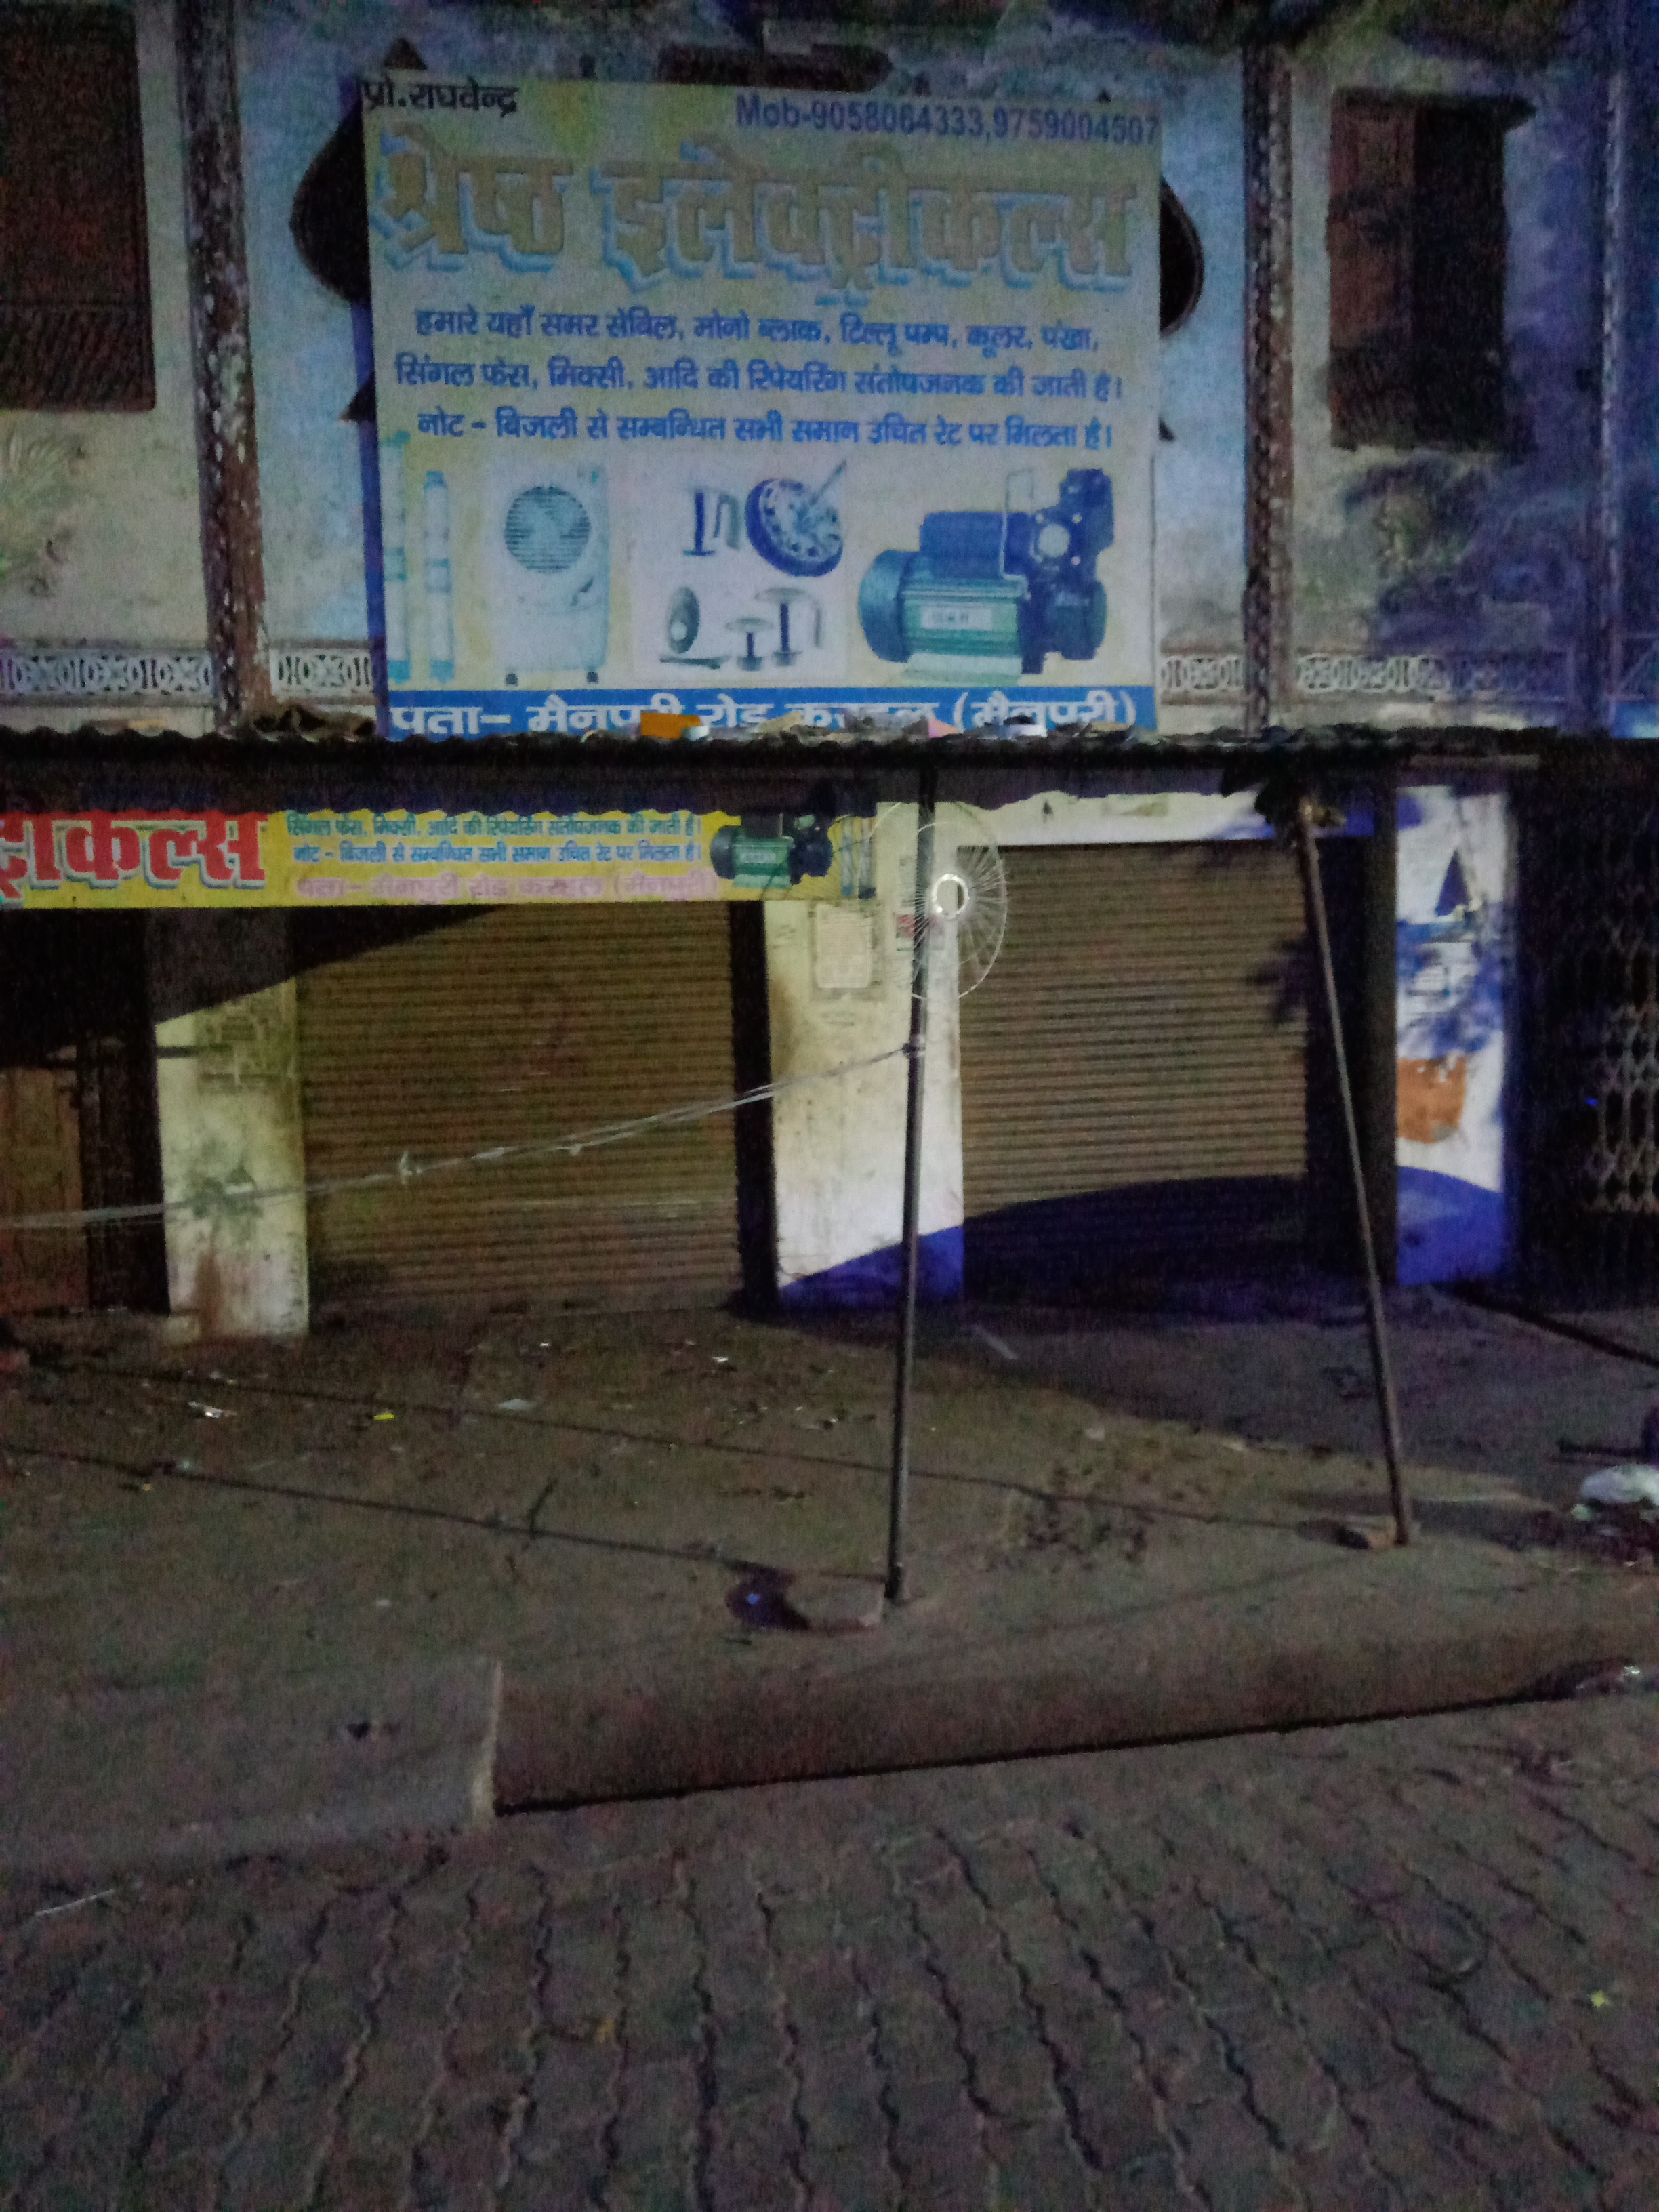text: (362, 61, 1180, 752), (0, 751, 871, 916)
